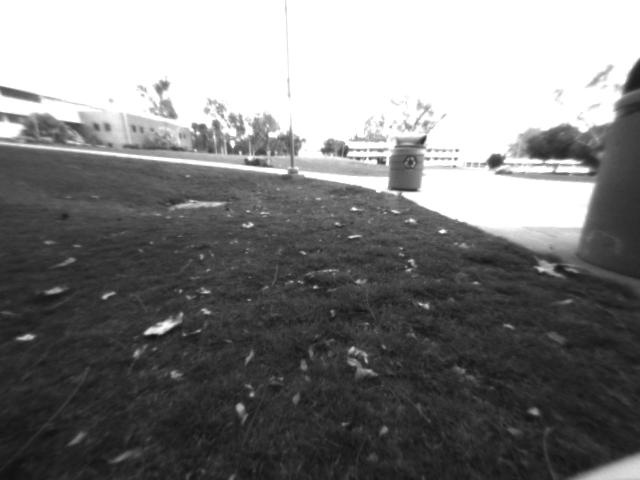trashcan: (386, 126, 433, 201)
